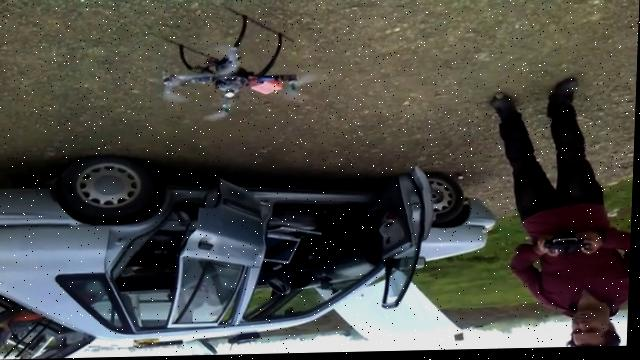drone: (141, 2, 325, 126)
